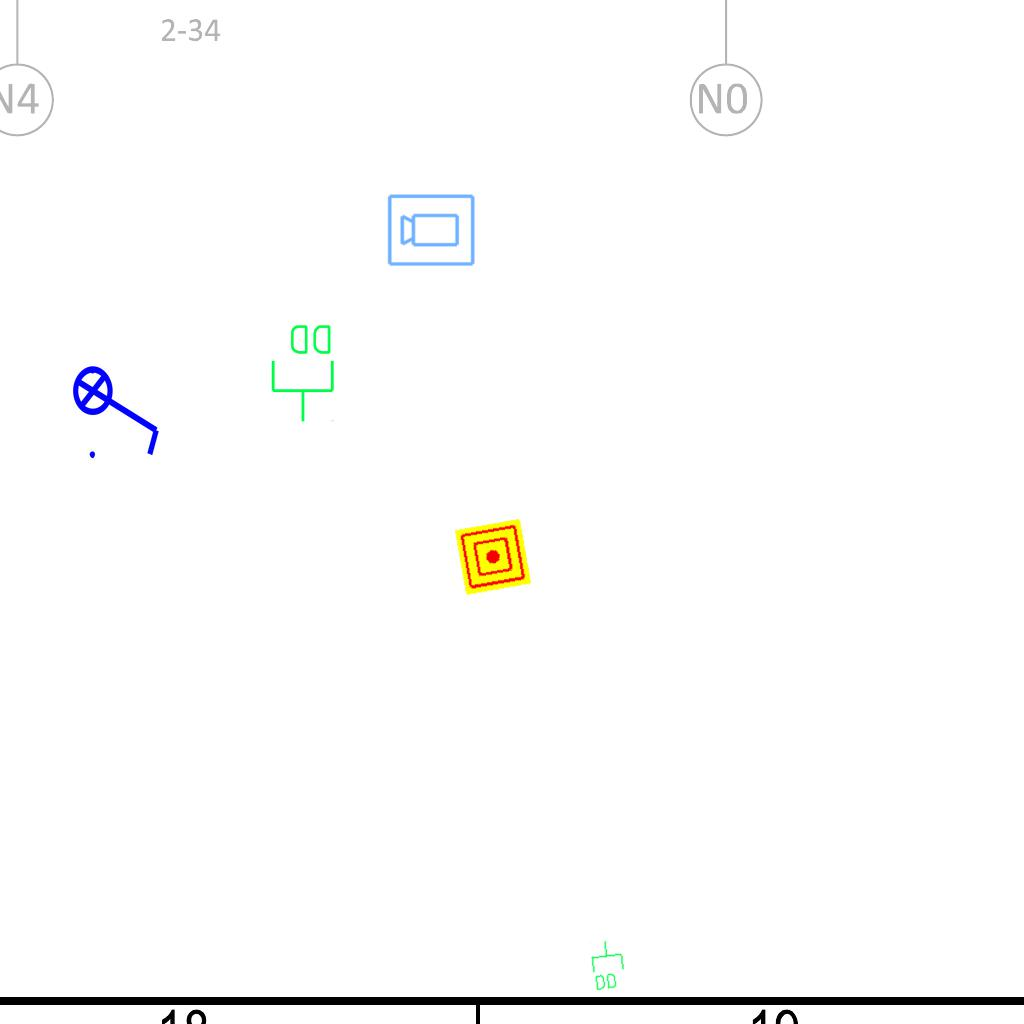Ausschalter_beleuchtet: (71, 352, 167, 464)
Datenanschluss_zweifach: (269, 321, 338, 424), (587, 937, 628, 993)
KFO_Kamera_mit_Festobjektiv: (386, 191, 477, 268)
NAM-Nichtautomatischer_Melder: (454, 518, 532, 596)
